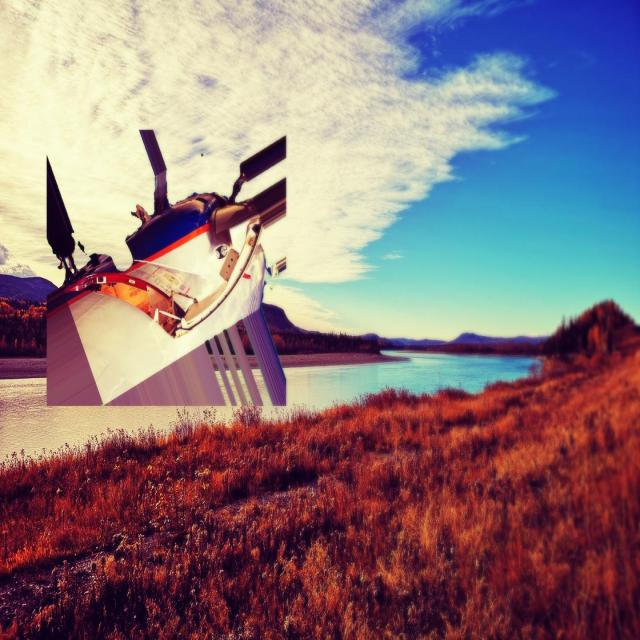airplane: (44, 128, 289, 407)
